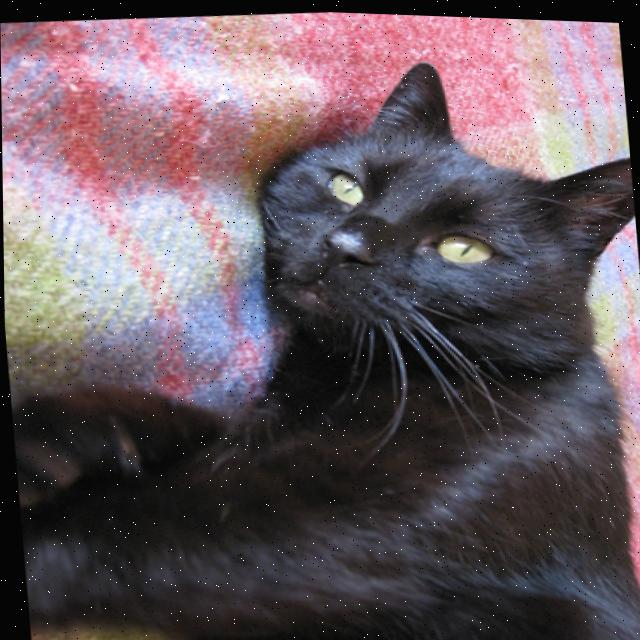Bombay: (0, 26, 640, 640)
